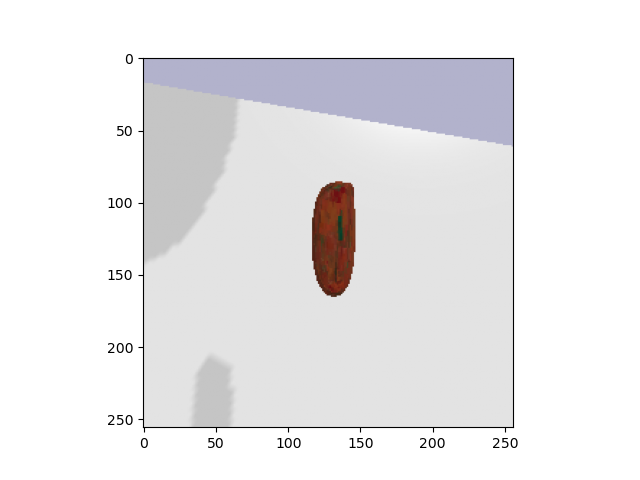v249b387_106: (296, 174, 385, 315)
